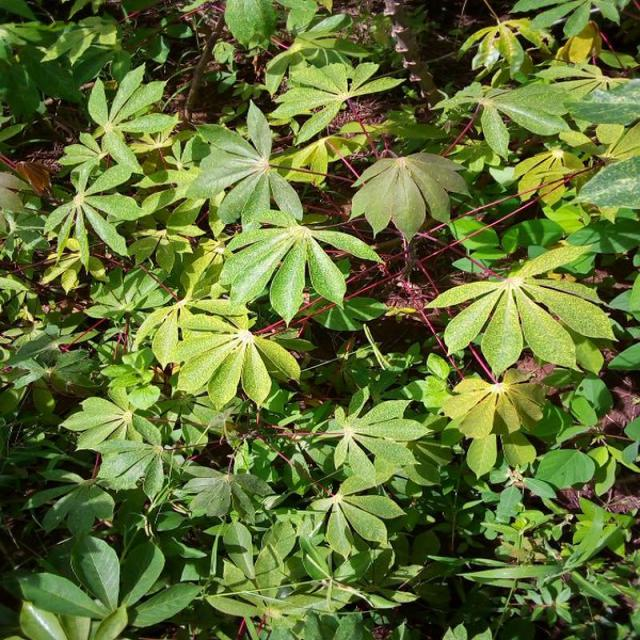cassava leaf: (425, 241, 616, 379), (218, 207, 383, 325), (168, 302, 301, 412), (348, 150, 469, 243)
